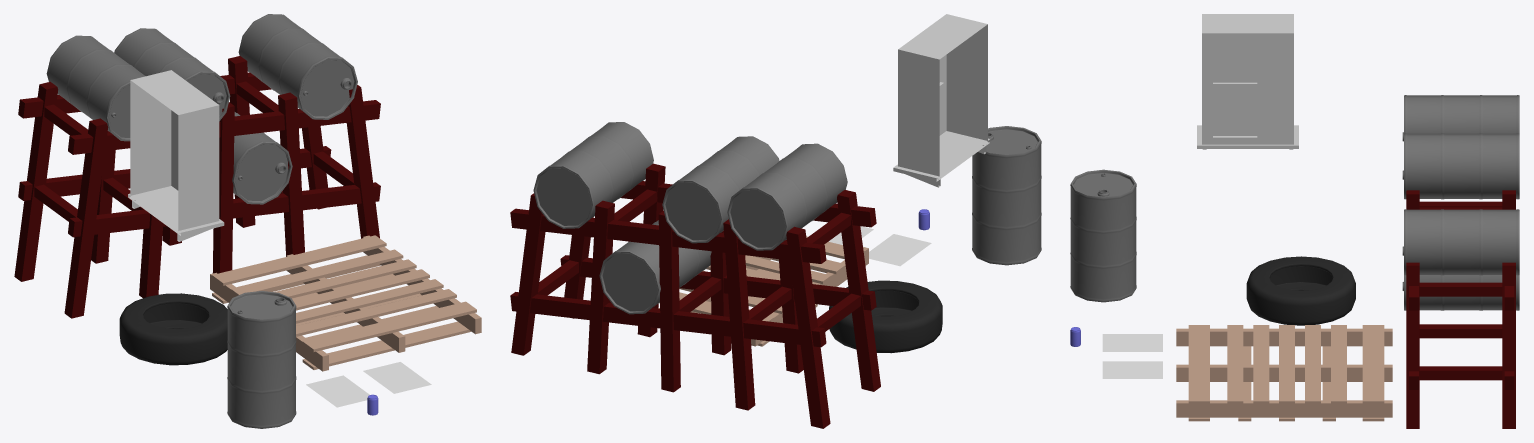
The model's file is SketchfabFbx.fbx.
3 views of the same model, side by side, from view 1: azimuth 30°, elevation 25°; view 2: azimuth 150°, elevation 25°; view 3: azimuth 270°, elevation 25° (orthographic). The views are drawn at different scales.
Parts seen in each view (by area): view 1: Barrel_Holder, pCube27, pCube34, Barrel_low4, Barrel_low1, Tire_low, Barrel_low2, Barrel_low3, Barrel_low, pPlane2, pPlane1; view 2: Barrel_Holder, pCube34, Barrel_low4, Barrel_low2, Barrel_low1, Barrel_low3, Tire_low, Barrel_low, pCube27, pPlane1; view 3: pCube27, pCube34, Barrel_Holder, Barrel_low4, Barrel_low3, Barrel_low1, Tire_low, Barrel_low2, Barrel_low, pPlane1, pPlane2.
Part boxes in pixels (x1=…): Barrel_Holder: x1=14, y1=56, x2=380, y2=318; pCube27: x1=210, y1=235, x2=481, y2=371; pCube34: x1=128, y1=70, x2=224, y2=241; Barrel_low4: x1=227, y1=291, x2=296, y2=428; Barrel_low1: x1=238, y1=14, x2=357, y2=119; Tire_low: x1=119, y1=293, x2=227, y2=365; Barrel_low2: x1=46, y1=35, x2=145, y2=141; Barrel_low3: x1=114, y1=28, x2=230, y2=121; Barrel_low: x1=232, y1=112, x2=292, y2=204; pPlane2: x1=363, y1=362, x2=431, y2=393; pPlane1: x1=306, y1=375, x2=369, y2=407; Barrel_Holder: x1=510, y1=163, x2=880, y2=428; pCube34: x1=893, y1=14, x2=990, y2=187; Barrel_low4: x1=972, y1=126, x2=1041, y2=265; Barrel_low2: x1=727, y1=143, x2=847, y2=250; Barrel_low1: x1=533, y1=122, x2=653, y2=228; Barrel_low3: x1=662, y1=136, x2=779, y2=243; Tire_low: x1=829, y1=280, x2=942, y2=353; Barrel_low: x1=599, y1=220, x2=711, y2=314; pCube27: x1=658, y1=236, x2=868, y2=346; pPlane1: x1=869, y1=234, x2=931, y2=266; pCube27: x1=1176, y1=325, x2=1392, y2=421; pCube34: x1=1197, y1=14, x2=1298, y2=149; Barrel_Holder: x1=1406, y1=190, x2=1515, y2=428; Barrel_low4: x1=1070, y1=169, x2=1136, y2=302; Barrel_low3: x1=1402, y1=133, x2=1519, y2=199; Barrel_low1: x1=1402, y1=209, x2=1519, y2=275; Tire_low: x1=1246, y1=256, x2=1355, y2=325; Barrel_low2: x1=1402, y1=95, x2=1519, y2=141; Barrel_low: x1=1402, y1=275, x2=1519, y2=310; pPlane1: x1=1102, y1=334, x2=1162, y2=351; pPlane2: x1=1102, y1=361, x2=1162, y2=378.
Size of what is drawn, in the model's own units: 347 by 300 by 452.
